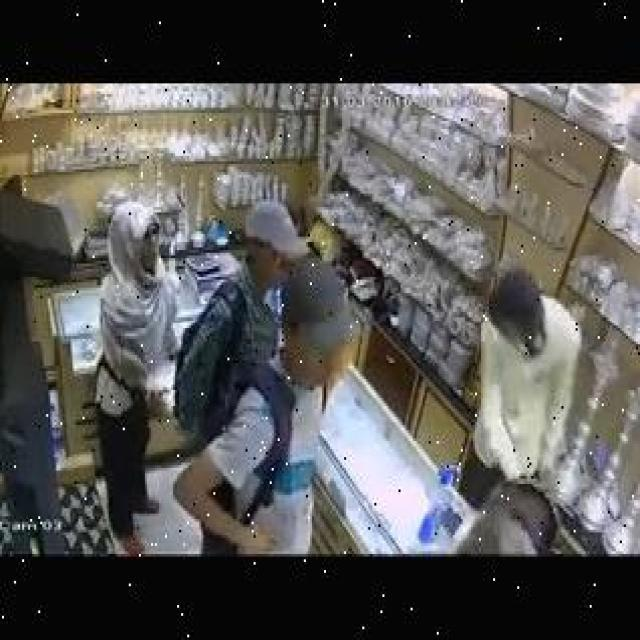Shoplifting: (73, 183, 379, 510)
